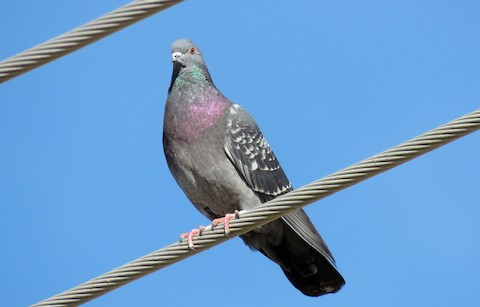pigeon: (160, 36, 348, 299)
